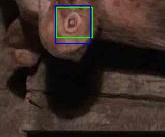text: (56, 7, 92, 37)
